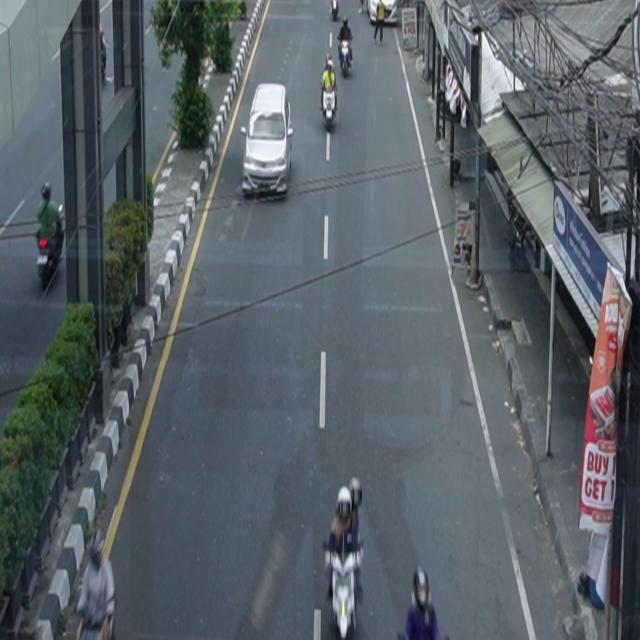car: (241, 83, 294, 201)
